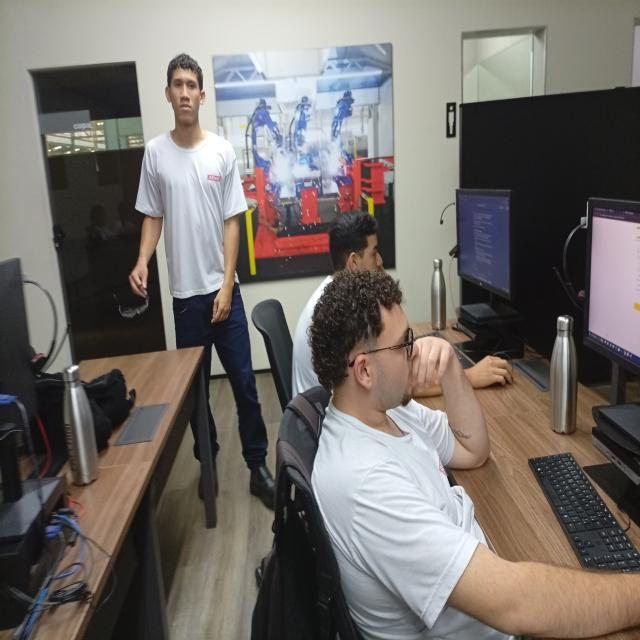sem_oculos: (342, 334, 437, 364), (162, 69, 213, 108), (340, 241, 387, 262)
